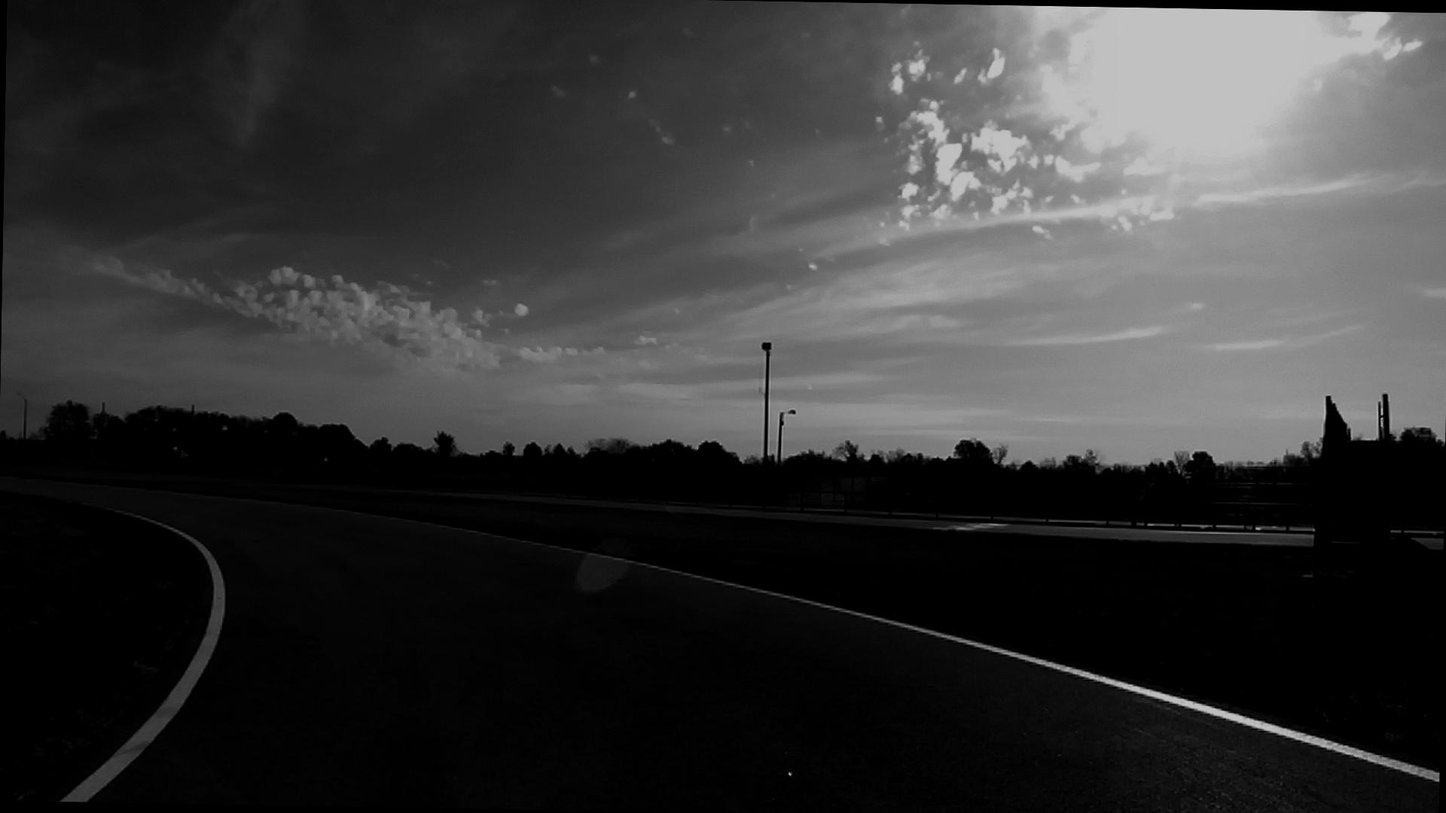white-line: (399, 519, 1440, 785), (59, 510, 226, 802)
